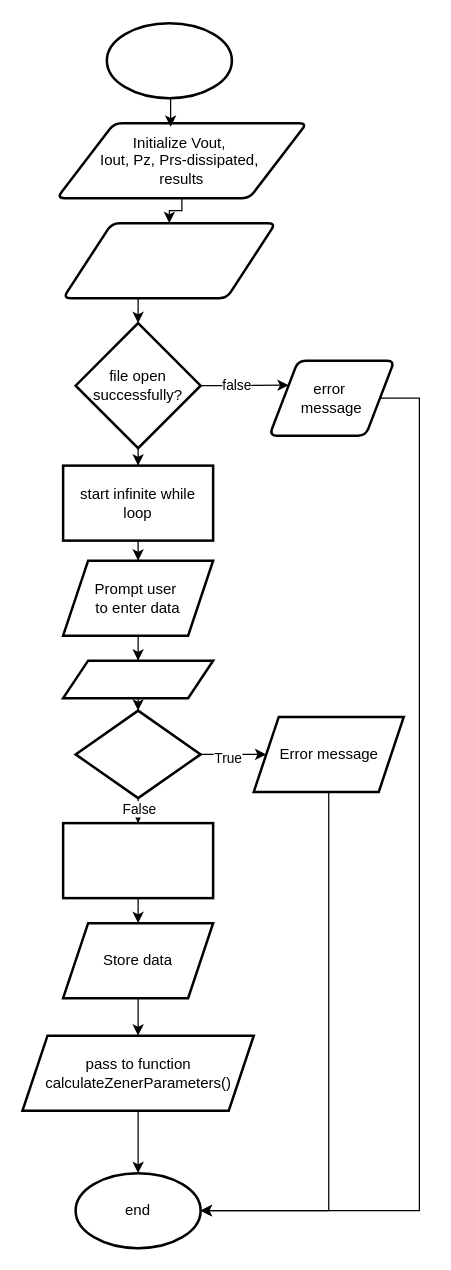
The diagram is 451 pixels wide and 1270 high, and some of its shapes have lost their labels. Here are the shapes that lost their labels. From the top down, the box of each, then its label:
(105, 21, 232, 99): Start function
(61, 221, 276, 299): open file "Zener_results.txt" in write mode
(61, 659, 214, 699): Validate data
(74, 709, 201, 799): Wrong data?
(61, 821, 214, 899): move to next data
